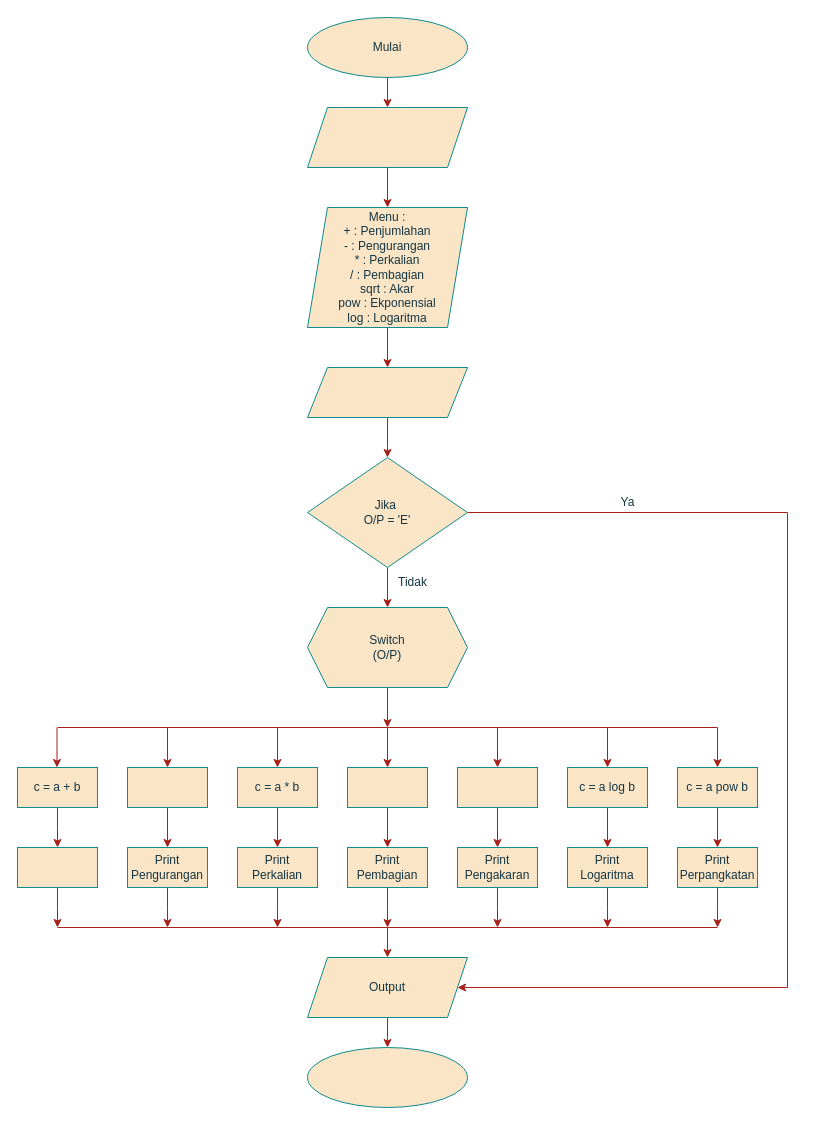
Some shapes in this 813 by 1125 pixel diagram are drawn without their labels. The shapes that lost their labels are listed below. From the top down, each one's centre as x and y in pixels, then its label:
[387,137]: Input a, b
[387,392]: Input Pilihan
[167,787]: c = a - b
[387,787]: c = a / b
[497,787]: c = sqrt a c = sqrt b
[57,867]: Print Penjumlahan
[387,1077]: Selesai
